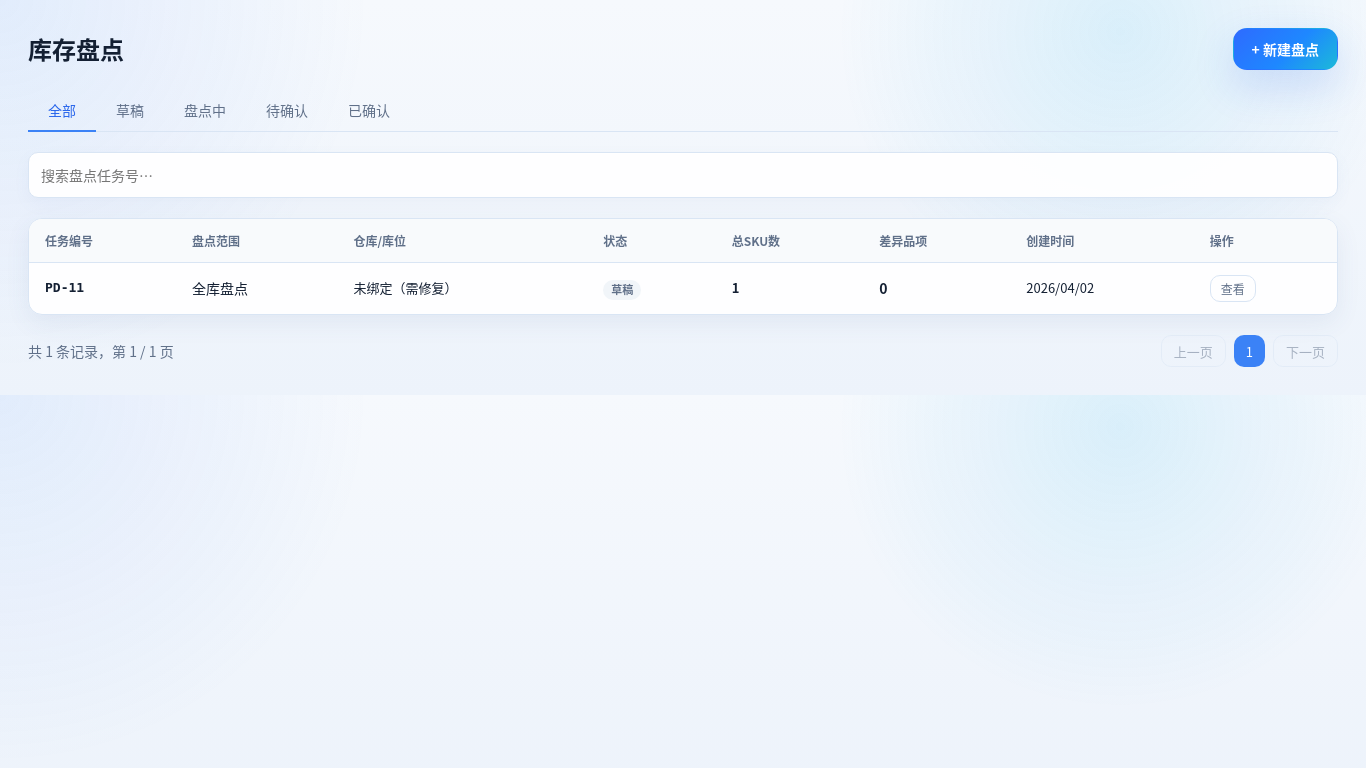
Test: StocktakingPage › 展开明细时应渲染盘点物料明细
Click the button with aria-label "查看盘点明细": (1233, 289) [1210,275,1256,302]
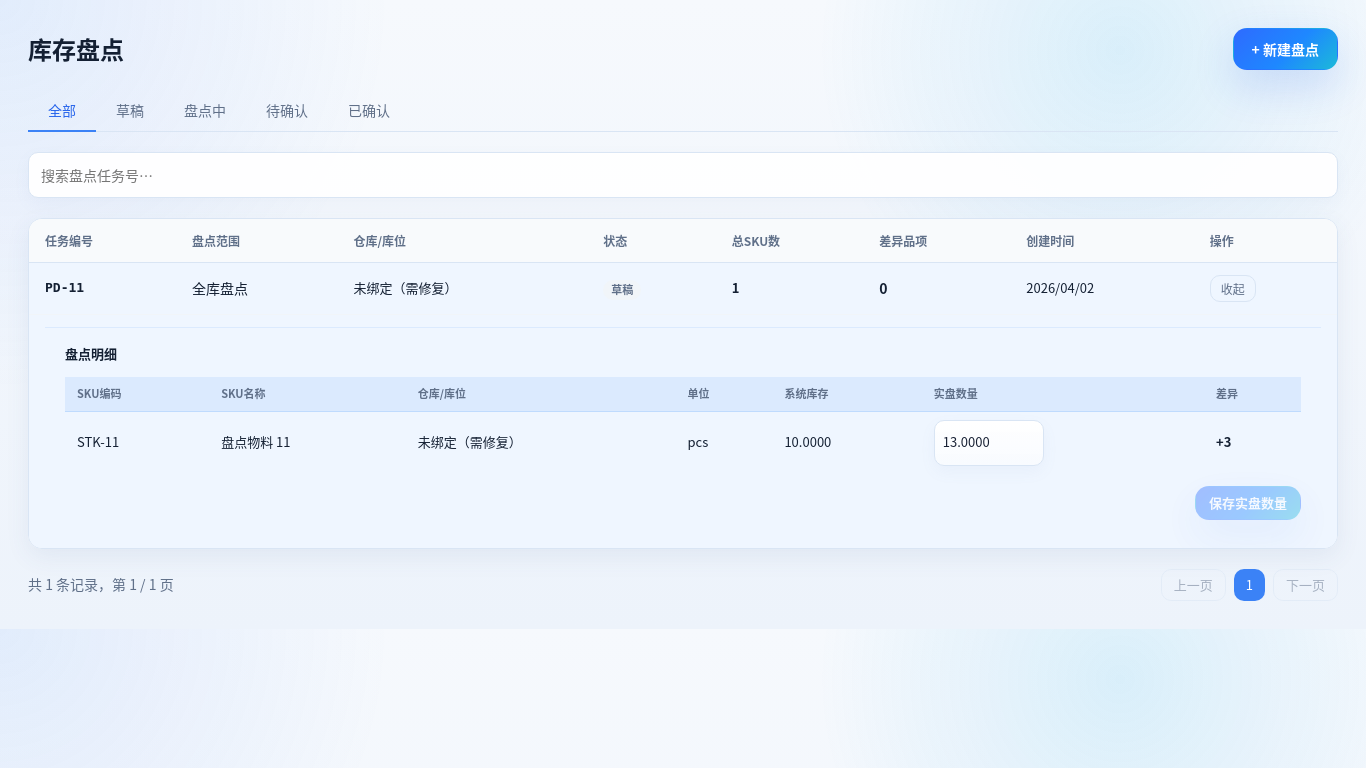
Expected: the text "盘点明细" is shown, [65,344,117,363]
Expected: the text "STK-11" is shown, [65,411,209,474]
Expected: the text "盘点物料 11" is shown, [209,411,406,474]
